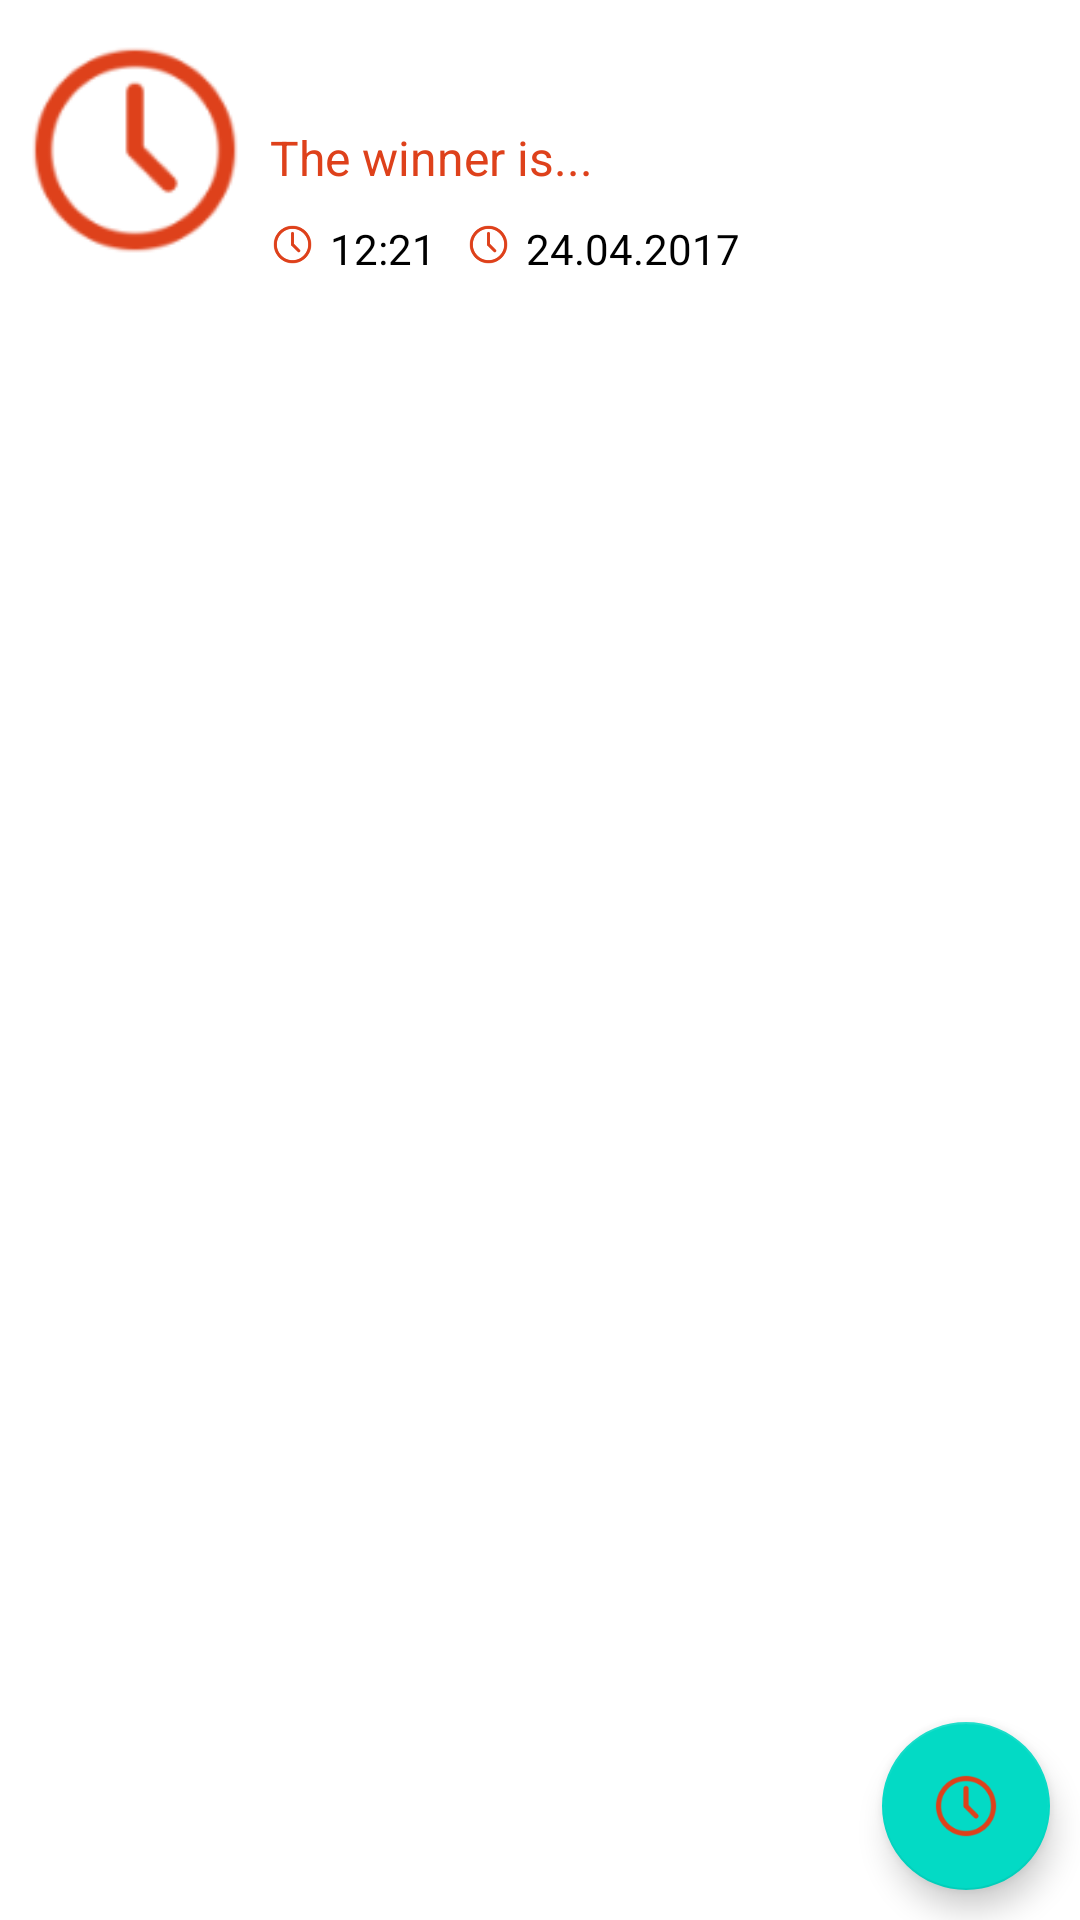

Screen size 1080px x 1920px. Icon name, then its box in pixels as (x1, y1, x2, y2):
clock: (33, 48, 237, 252), (273, 225, 312, 264), (469, 225, 508, 264), (882, 1722, 1050, 1890)
